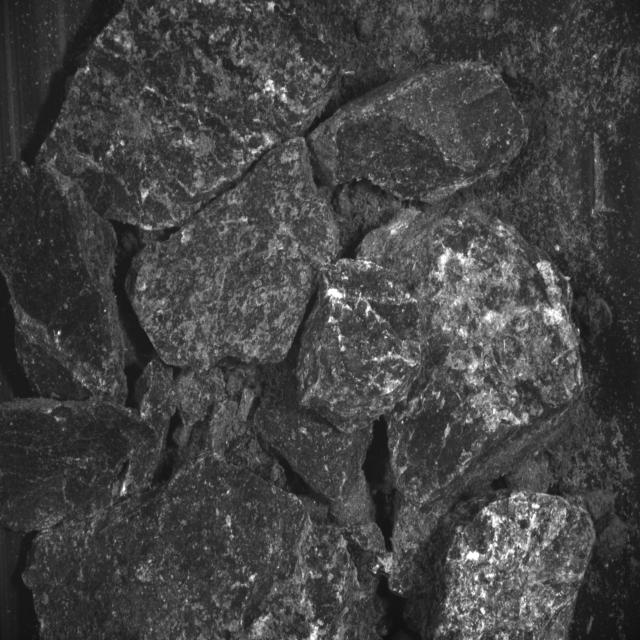Stones: (40, 3, 340, 232), (360, 210, 584, 506), (26, 457, 385, 640), (127, 139, 340, 370), (309, 63, 529, 204), (1, 164, 127, 403), (435, 493, 596, 640), (297, 260, 424, 433), (1, 400, 161, 533), (255, 379, 375, 526)
